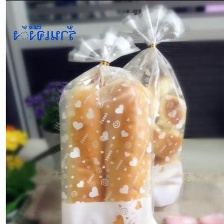snack: (52, 26, 162, 224), (110, 1, 194, 211)
